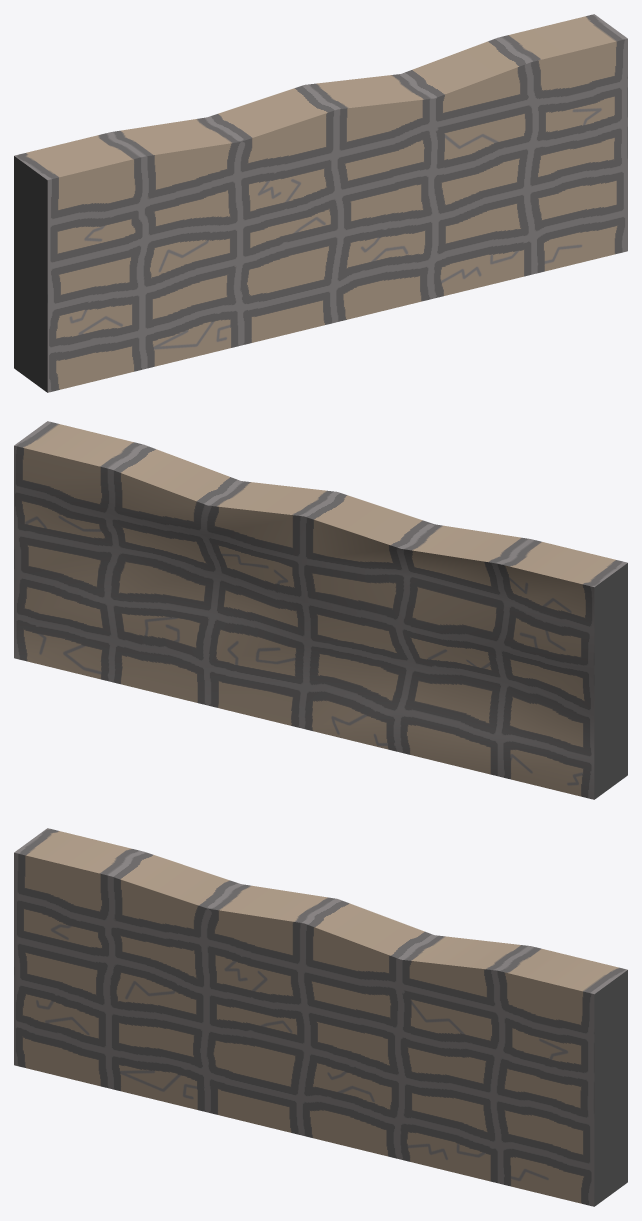
Rendered from stone_wall.FBX.
The picture shows the model from 3 angles, top to bottom: view 1: azimuth 30°, elevation 25°; view 2: azimuth 150°, elevation 25°; view 3: azimuth 330°, elevation 25°; orthographic projection.
Parts seen in each view (by area): view 1: Wall; view 2: Wall; view 3: Wall.
Part boxes in pixels (left/top/right/bottom): Wall: left=14, top=14, right=627, bottom=392; Wall: left=14, top=421, right=627, bottom=799; Wall: left=14, top=828, right=627, bottom=1206.
Bounding box in the file's own units: 351 × 35.09 × 123.
